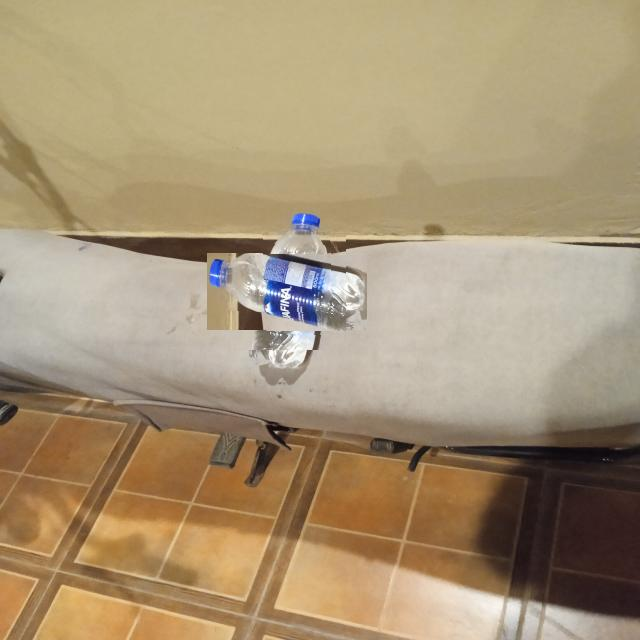Plastic: (228, 232, 346, 351)
